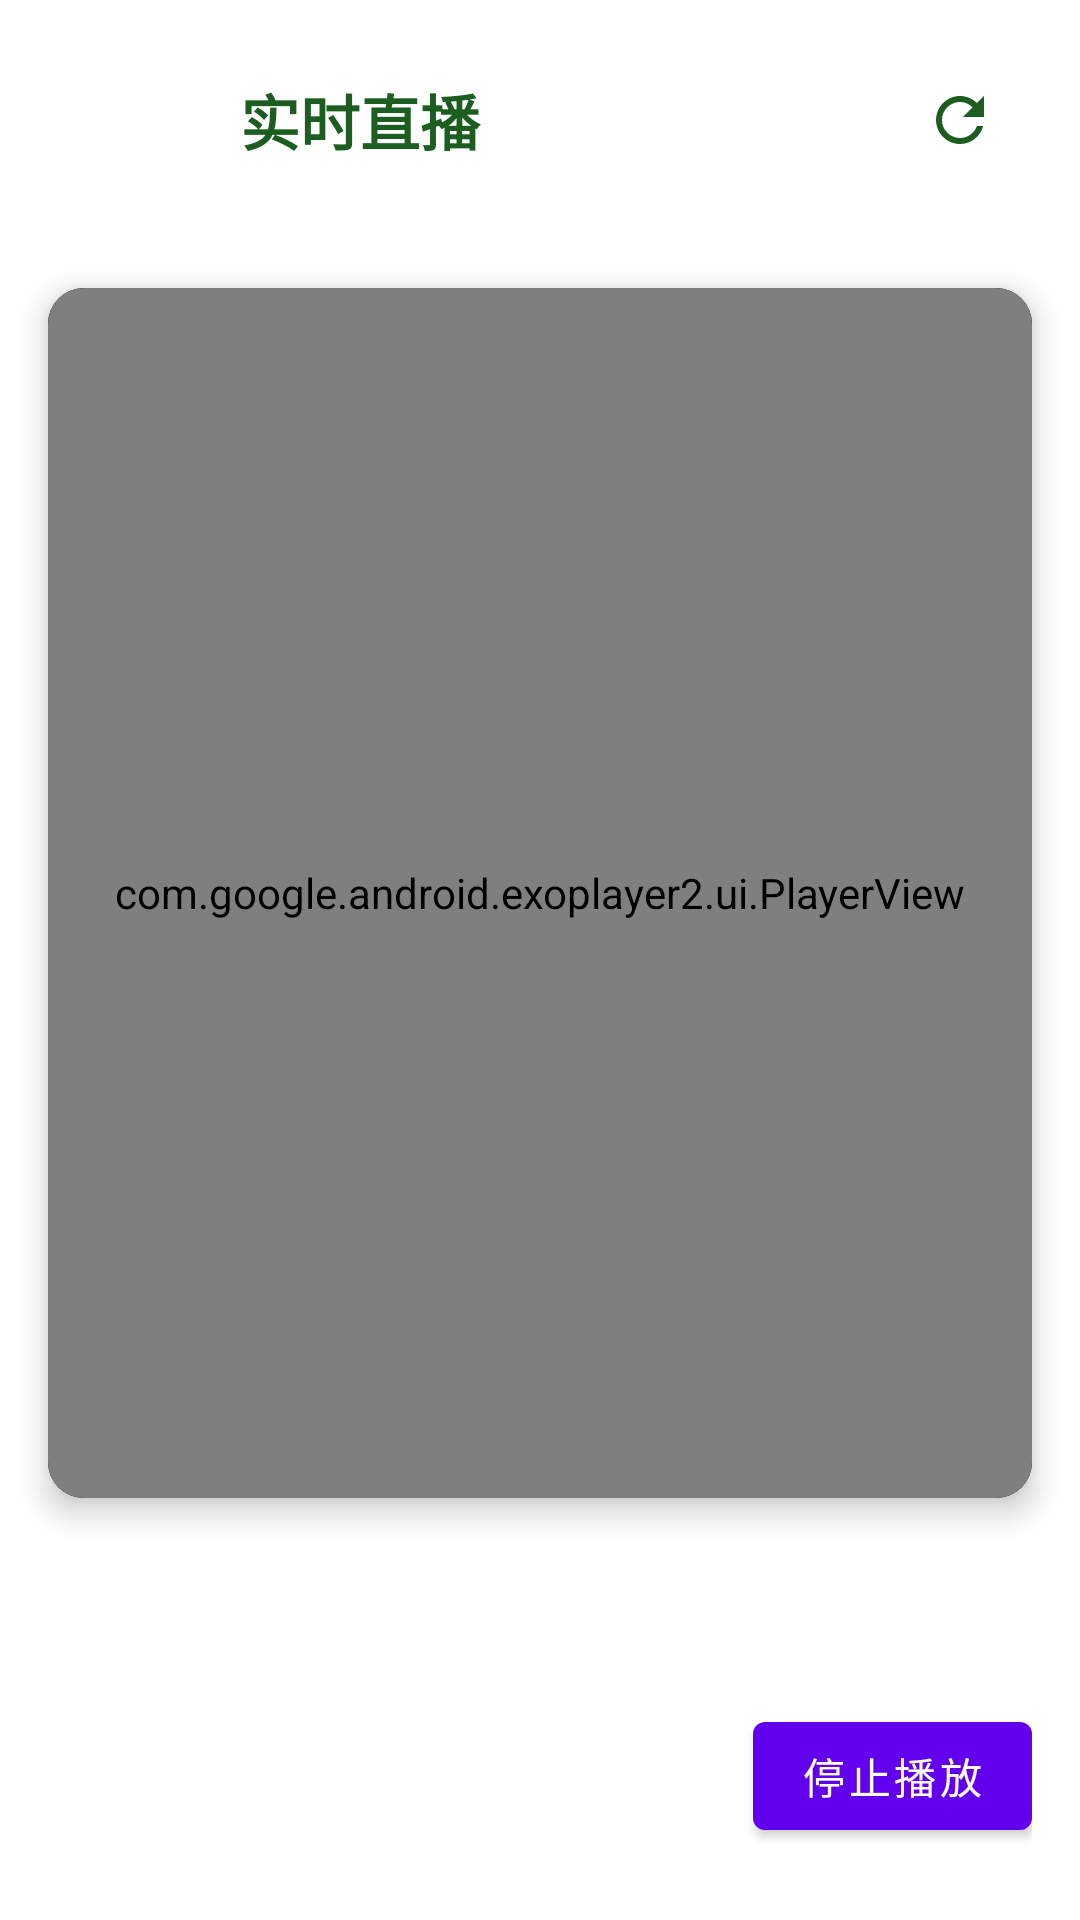

Icons on this 1080px x 1920px Android screen, each with its box as bbox=[x1, y1, x2, y2]:
刷新: bbox=[936, 96, 984, 144]
